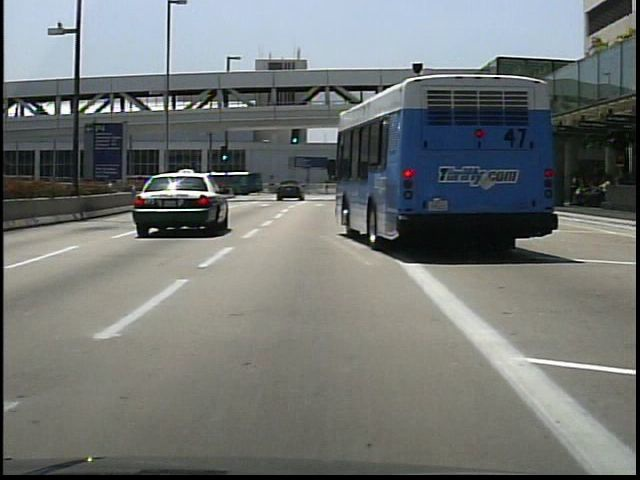person: (567, 170, 581, 206)
